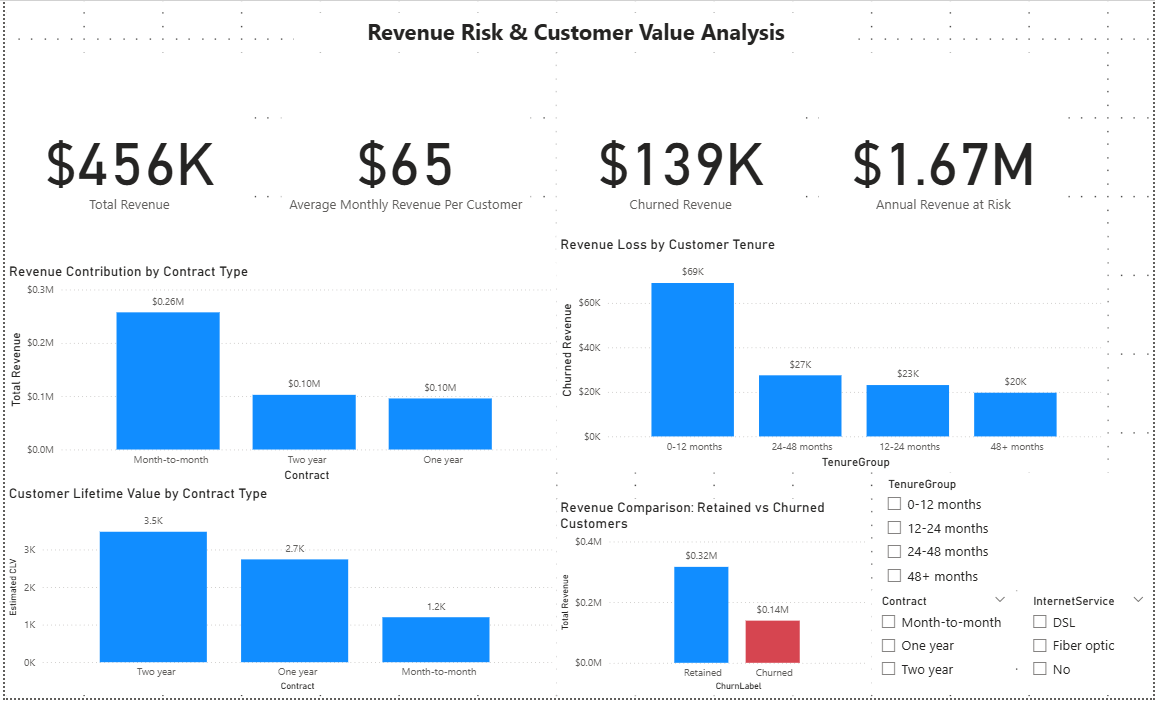

The dashboard page shown, as its layout file describes it:
{"tool":"powerbi","page":{"name":"Revenue and Customer Value Analysis","canvas":[1400,900],"ordinal":2},"visuals":[{"type":"textbox","box":[352,64,688,48],"z":0},{"type":"card","fields":{"Values":["clean_telco_churn.Total Revenue"]},"box":[0,112,304,272],"z":1},{"type":"card","fields":{"Values":["Avg(clean_telco_churn.MonthlyCharges)"]},"box":[336,112,304,272],"z":2},{"type":"card","fields":{"Values":["clean_telco_churn.Churned Revenue"]},"box":[672,112,304,272],"z":3},{"type":"actionButton","box":[0,0,100,40],"z":4},{"type":"card","fields":{"Values":["clean_telco_churn.Annual Revenue at Risk"]},"box":[992,112,304,272],"z":5},{"type":"clusteredColumnChart","title":"Revenue Contribution by Contract Type","fields":{"Category":["clean_telco_churn.Contract"],"Y":["clean_telco_churn.Total Revenue"]},"box":[0,368,672,272],"z":6},{"type":"clusteredColumnChart","title":"Revenue Loss by Customer Tenure","fields":{"Category":["clean_telco_churn.TenureGroup"],"Y":["clean_telco_churn.Churned Revenue"]},"box":[672,336,672,288],"z":7},{"type":"clusteredColumnChart","title":"Customer Lifetime Value by Contract Type","fields":{"Category":["clean_telco_churn.Contract"],"Y":["clean_telco_churn.Estimated CLV"]},"box":[0,640,672,256],"z":8},{"type":"clusteredColumnChart","title":"Revenue Comparison:  Retained vs Churned Customers","fields":{"Category":["clean_telco_churn.ChurnLabel"],"Y":["clean_telco_churn.Total Revenue"]},"box":[672,656,384,240],"z":9},{"type":"slicer","fields":{"Values":["clean_telco_churn.Contract"]},"box":[1056,768,176,128],"z":10},{"type":"slicer","fields":{"Values":["clean_telco_churn.TenureGroup"]},"box":[1064,624,336,144],"z":11},{"type":"slicer","fields":{"Values":["clean_telco_churn.InternetService"]},"box":[1240,768,160,128],"z":12}]}

Visuals, with their boxes on the page's 1400x900 design canvas (x1, y1, x2, y2). These are canvas units, not pixel positions in the 1155x714 screenshot, which may show the page scaled, cropped or inside an application window:
textbox: bbox=(352, 64, 1040, 112)
card - clean_telco_churn.Total Revenue: bbox=(0, 112, 304, 384)
card - Avg(clean_telco_churn.MonthlyCharges): bbox=(336, 112, 640, 384)
card - clean_telco_churn.Churned Revenue: bbox=(672, 112, 976, 384)
actionButton: bbox=(0, 0, 100, 40)
card - clean_telco_churn.Annual Revenue at Risk: bbox=(992, 112, 1296, 384)
"Revenue Contribution by Contract Type" clusteredColumnChart: bbox=(0, 368, 672, 640)
"Revenue Loss by Customer Tenure" clusteredColumnChart: bbox=(672, 336, 1344, 624)
"Customer Lifetime Value by Contract Type" clusteredColumnChart: bbox=(0, 640, 672, 896)
"Revenue Comparison:  Retained vs Churned Customers" clusteredColumnChart: bbox=(672, 656, 1056, 896)
slicer - clean_telco_churn.Contract: bbox=(1056, 768, 1232, 896)
slicer - clean_telco_churn.TenureGroup: bbox=(1064, 624, 1400, 768)
slicer - clean_telco_churn.InternetService: bbox=(1240, 768, 1400, 896)
